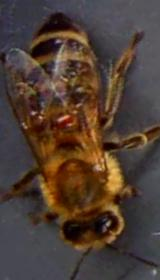varroa_mite: (40, 108, 84, 134)
